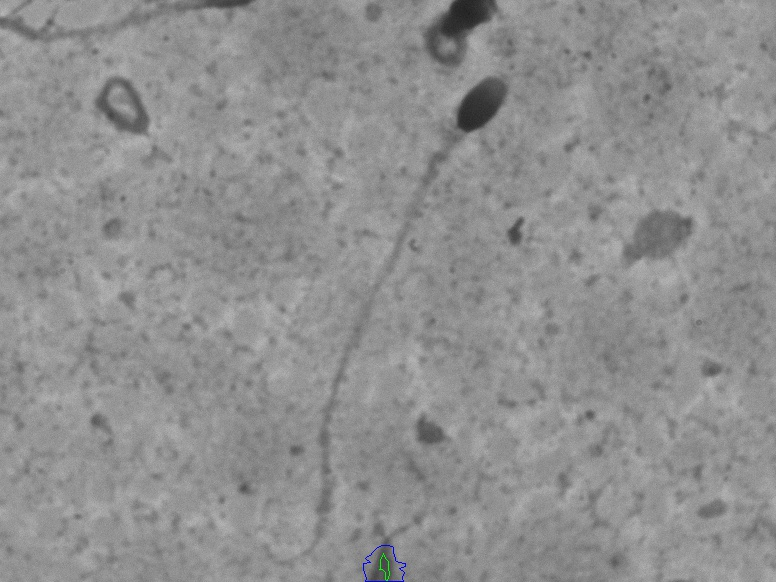Normal: (231, 74, 581, 568)
